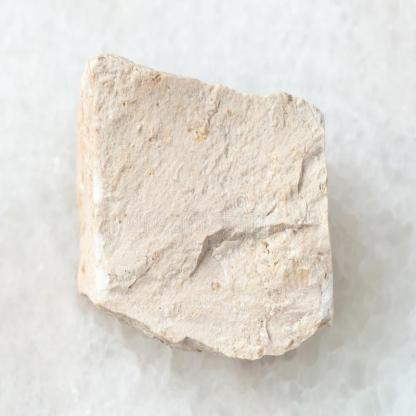Sedimentary_Limestone: (66, 42, 340, 362)
